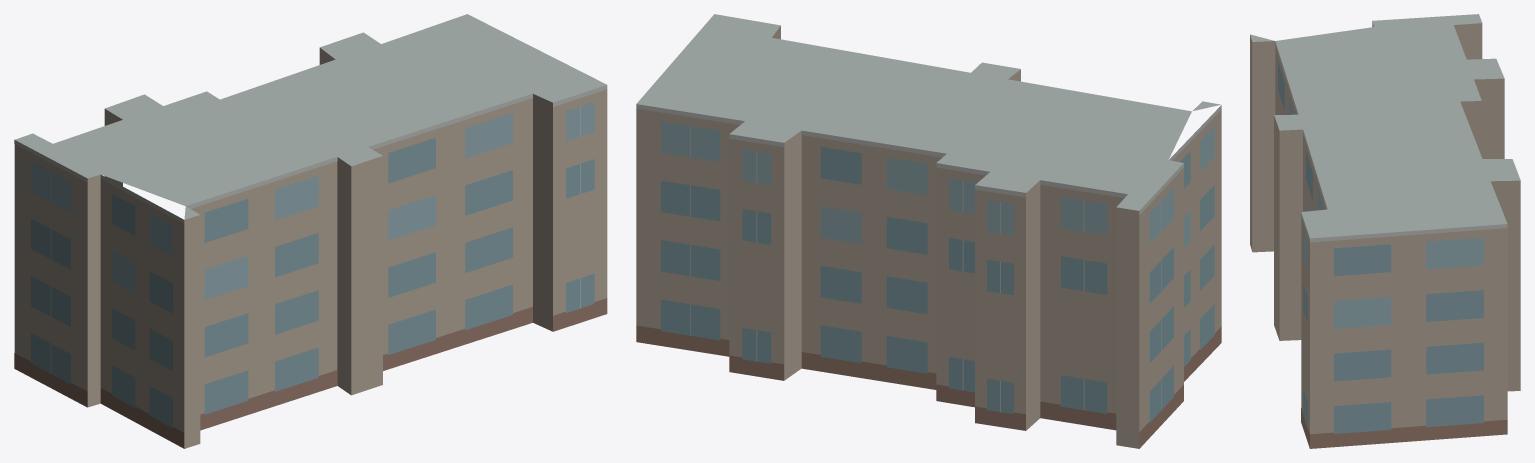
The model's file is survey-upis-32636523.glb.
3 views of the same model, side by side, from view 1: azimuth 30°, elevation 25°; view 2: azimuth 150°, elevation 25°; view 3: azimuth 270°, elevation 25° (orthographic). The views are drawn at different scales.
Visible parts, largest first — view 1: survey-upis-32636523.tmp; view 2: survey-upis-32636523.tmp; view 3: survey-upis-32636523.tmp.
Boxes of the visible parts, box(x1,y1,x2,y2) form: survey-upis-32636523.tmp: box(14, 14, 607, 448); survey-upis-32636523.tmp: box(636, 14, 1221, 448); survey-upis-32636523.tmp: box(1250, 14, 1520, 448).
Bounding box in the file's own units: 29.54 × 12.9 × 15.05.
